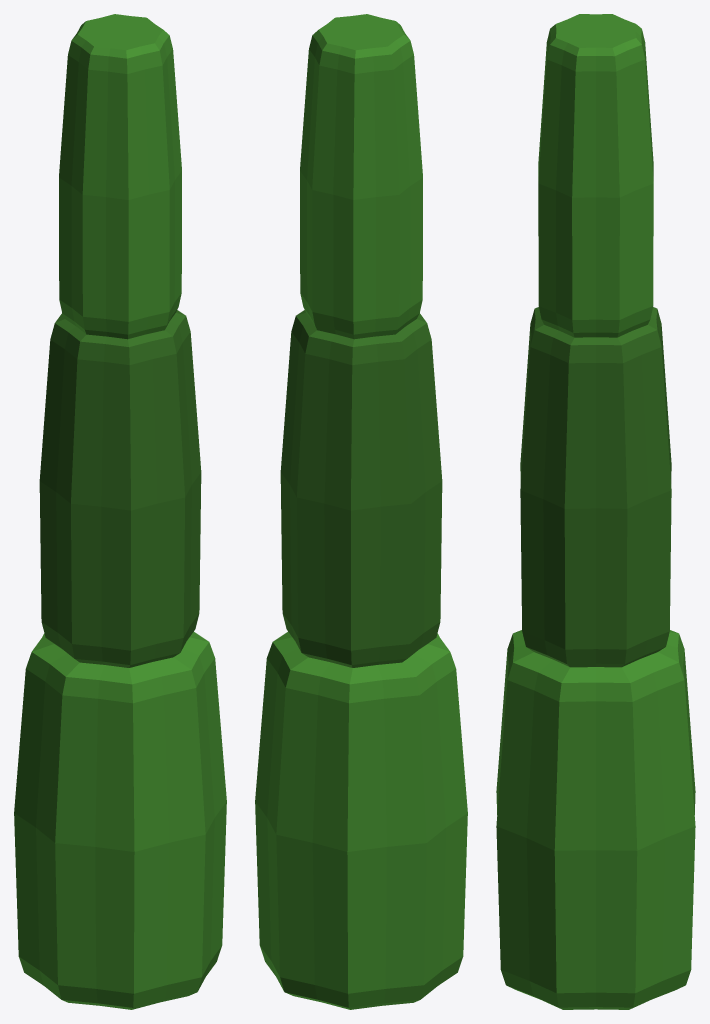
Rendered from Cactus_08_A.fbx.
The picture shows the model from 3 angles, left to right: view 1: azimuth 30°, elevation 25°; view 2: azimuth 150°, elevation 25°; view 3: azimuth 270°, elevation 25°; orthographic projection.
Visible parts, largest first — view 1: Cactus_08_A; view 2: Cactus_08_A; view 3: Cactus_08_A.
Boxes of the visible parts, x1,y1,x2,y2 form: Cactus_08_A: (14, 14, 226, 1009); Cactus_08_A: (255, 14, 467, 1009); Cactus_08_A: (496, 14, 695, 1009).
Size of the model in its own units: 39.18 by 205 by 39.18.
